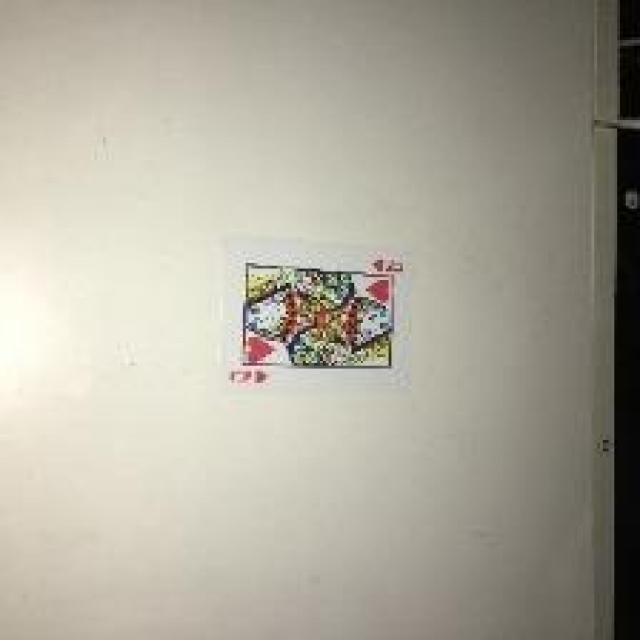Queen of hearts: (222, 242, 413, 388)
